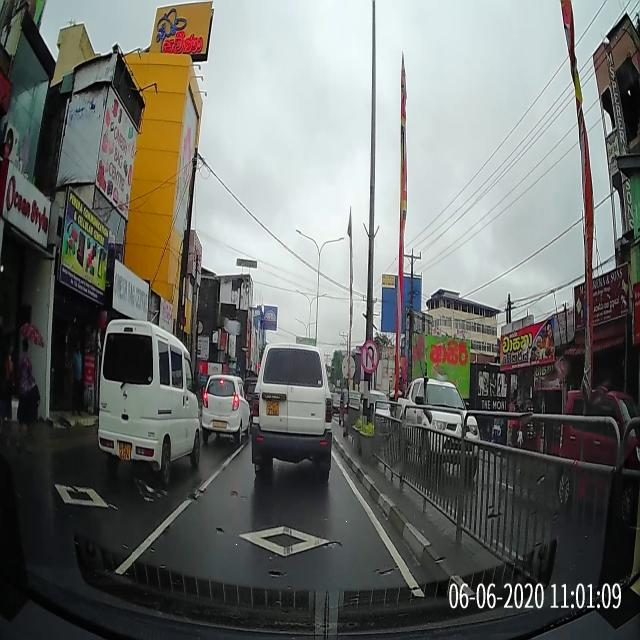diamond: (132, 502, 409, 573)
